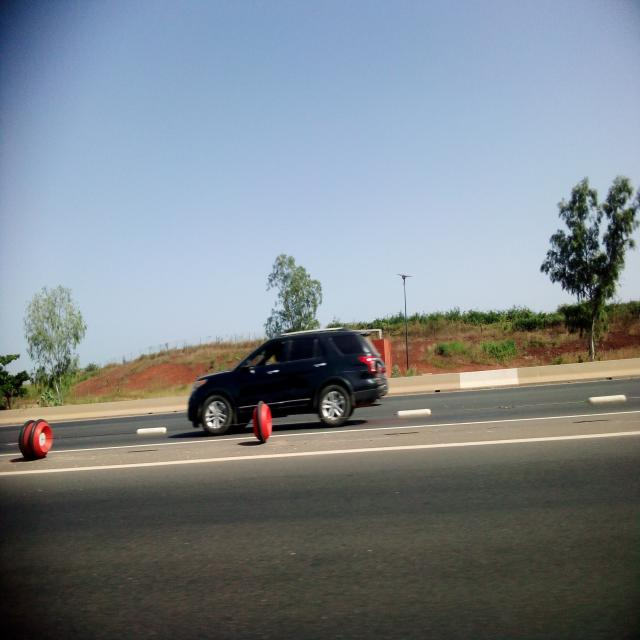particulier: (189, 329, 390, 436)
